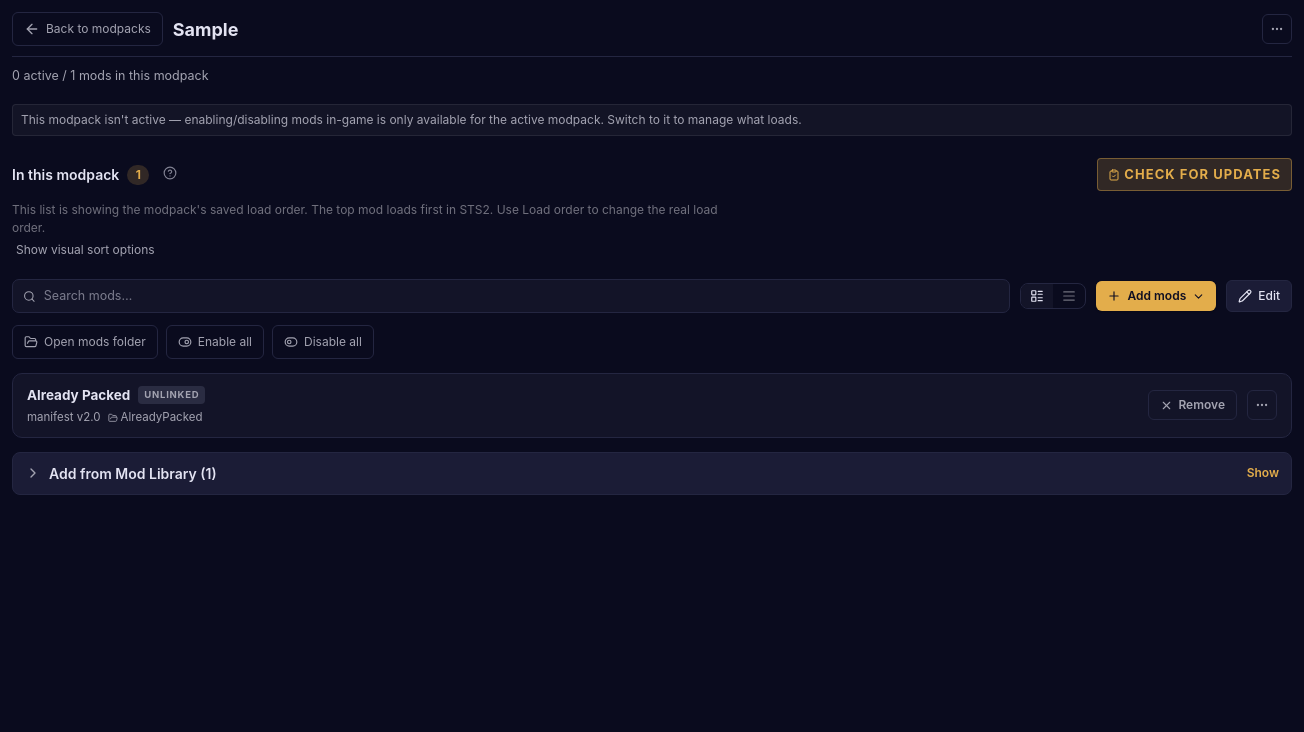
Test: <ModpackDetail> › labels Steam Workshop mods correctly in Add from your Library search results
Click the button "Add from Mod Library (1) Show" at (133, 473), box [12,452,1292,495]
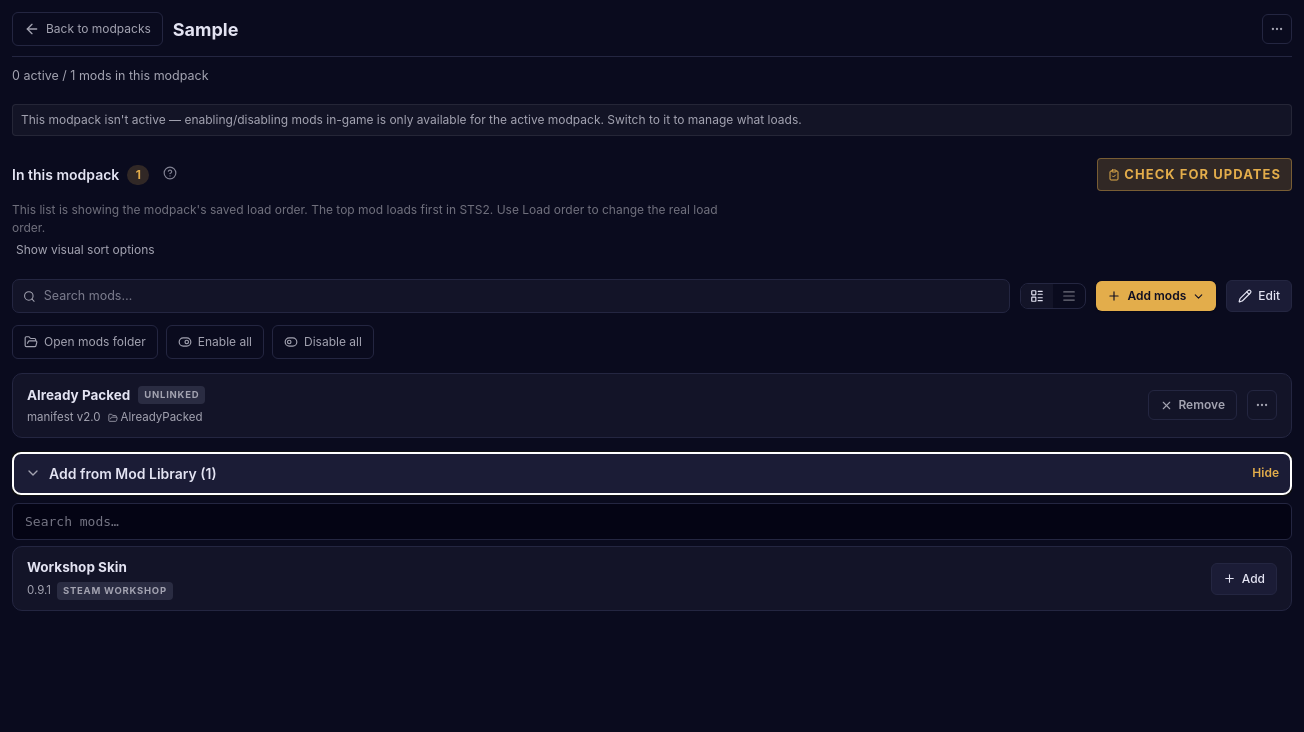
Check: the text "Steam Workshop" is shown, box [57,582,173,600]
